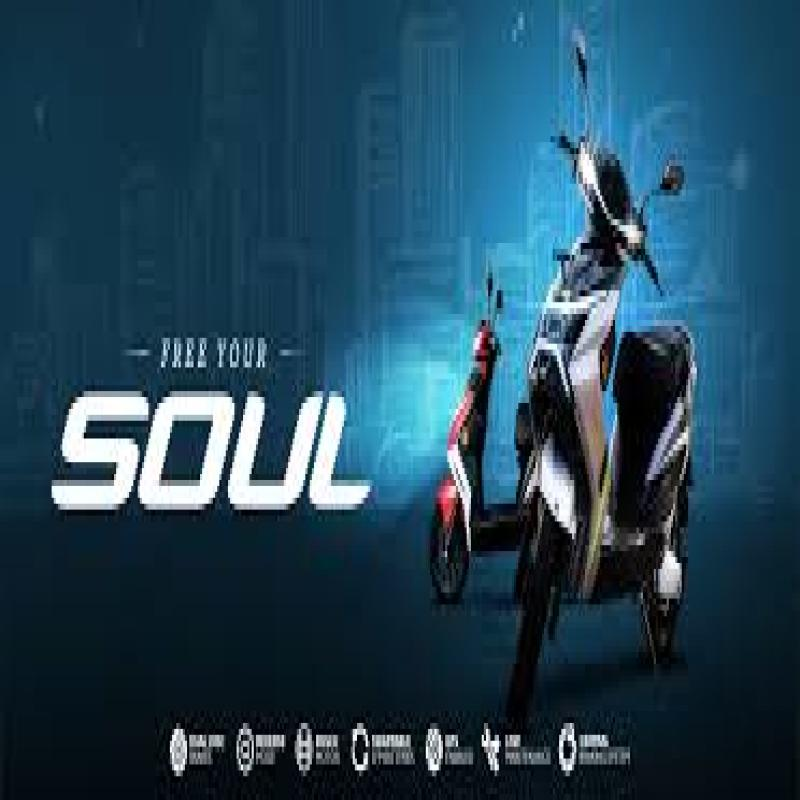bike: (514, 23, 717, 736), (420, 229, 555, 644)
